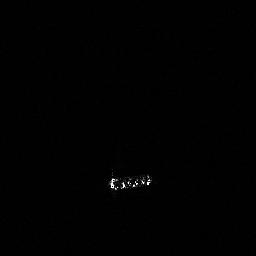ship: (104, 168, 154, 194)
